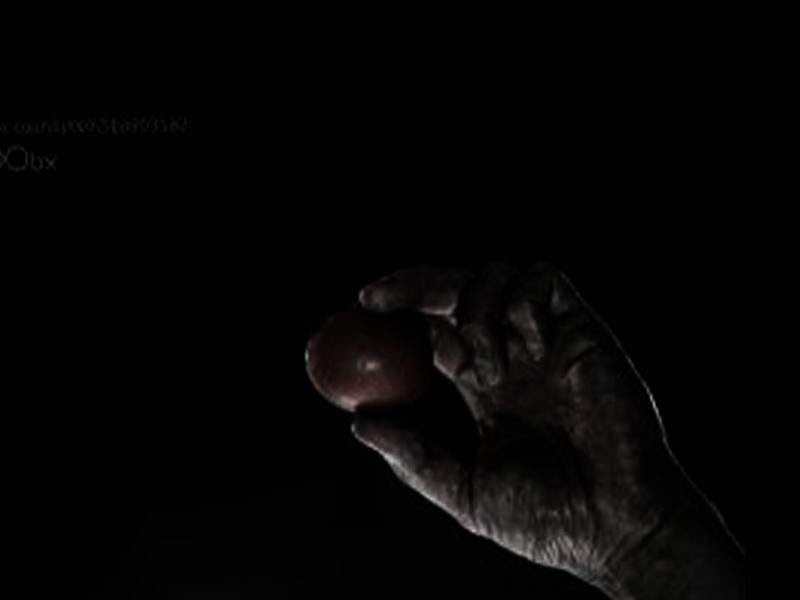Eggs: (304, 307, 438, 419)
